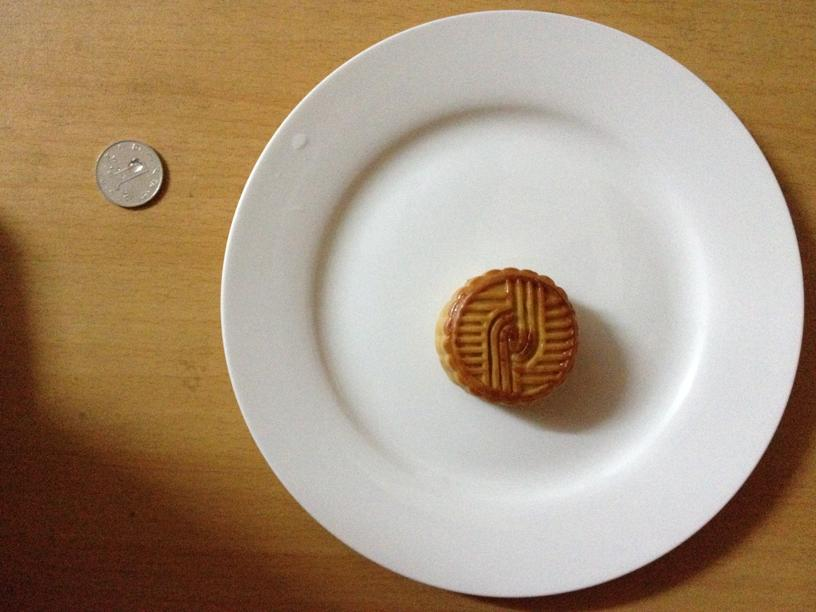coin: (95, 139, 163, 209)
mooncake: (436, 265, 577, 403)
